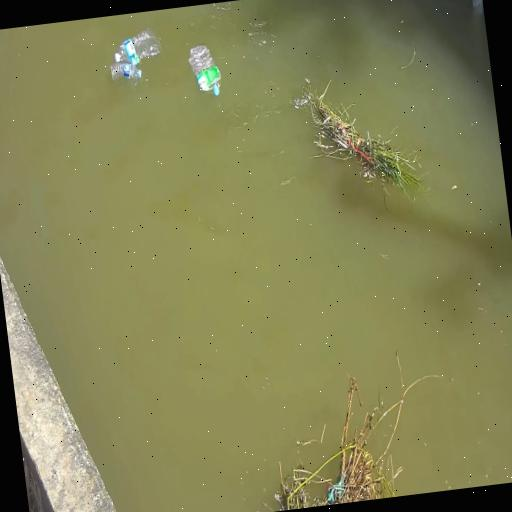plastic: (188, 45, 220, 95), (114, 30, 160, 64), (110, 63, 141, 79)
twig: (275, 352, 443, 510), (294, 79, 420, 190)
